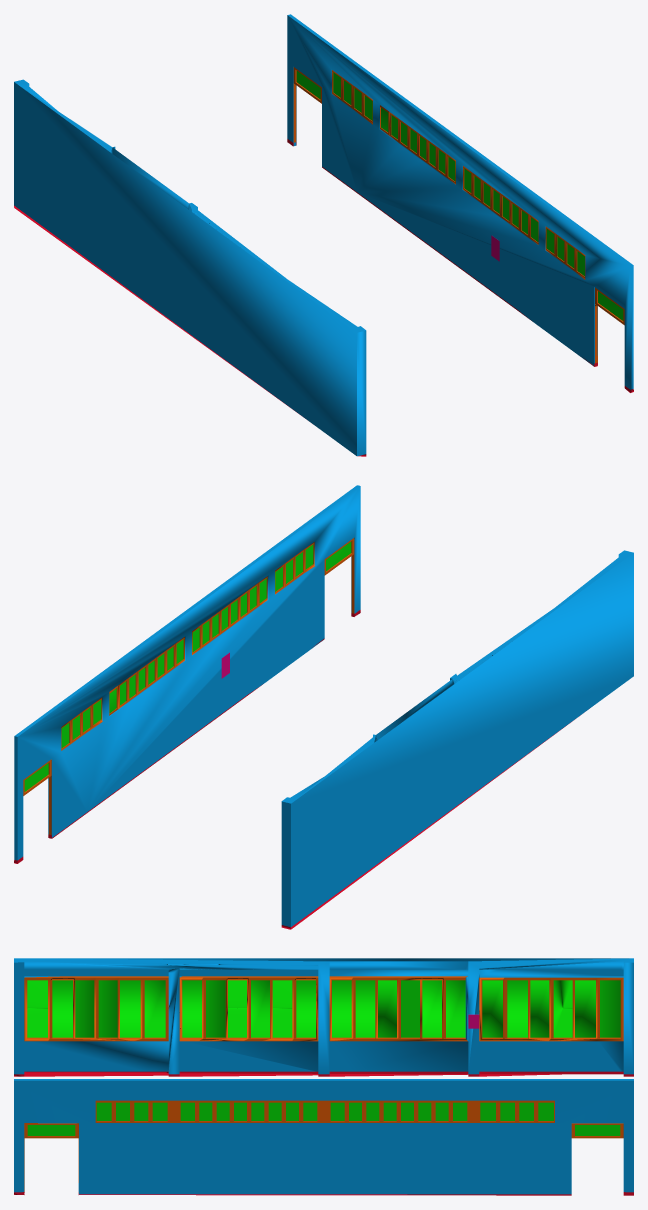
The model's file is wall.fbx.
3 views of the same model, one above another, from view 1: azimuth 30°, elevation 25°; view 2: azimuth 150°, elevation 25°; view 3: azimuth 270°, elevation 25° (orthographic). The views are drawn at different scales.
Parts seen in each view (by area): view 1: 窗牆壁, 門口牆壁; view 2: 窗牆壁, 門口牆壁; view 3: 窗牆壁, 門口牆壁.
Part boxes in pixels (box(x1,y1,x2,y2)): 窗牆壁: box(14, 79, 366, 456); 門口牆壁: box(287, 14, 633, 392); 窗牆壁: box(281, 550, 633, 929); 門口牆壁: box(14, 485, 360, 863); 窗牆壁: box(14, 958, 633, 1076); 門口牆壁: box(14, 1079, 633, 1195).
Bounding box in the file's own units: 1905 × 837 × 4083.
